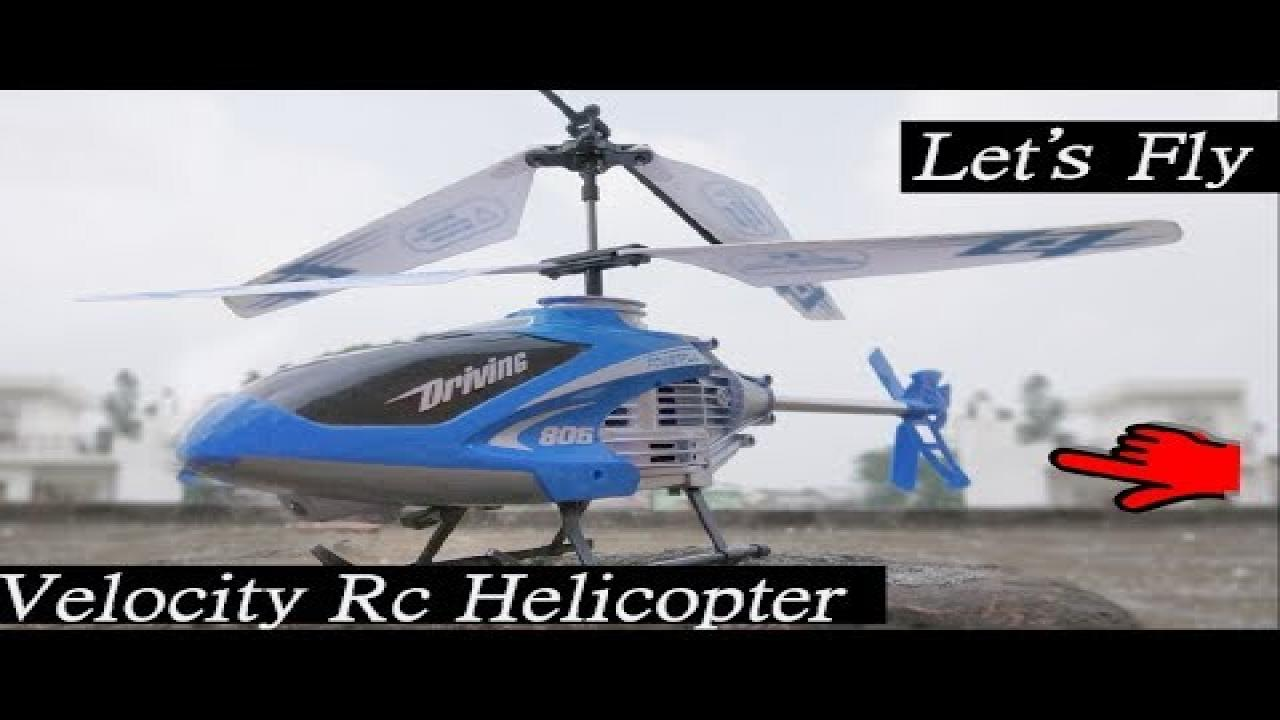Helicopter: (15, 88, 1192, 585)
